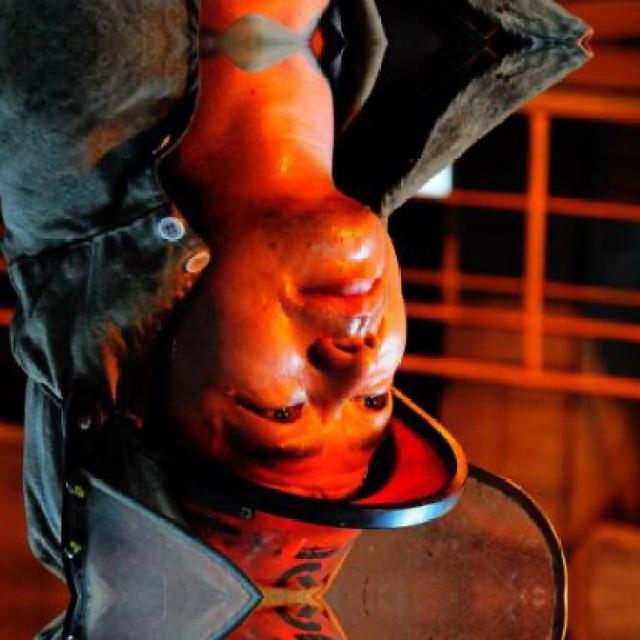con casco: (54, 23, 499, 578), (53, 543, 54, 557)
